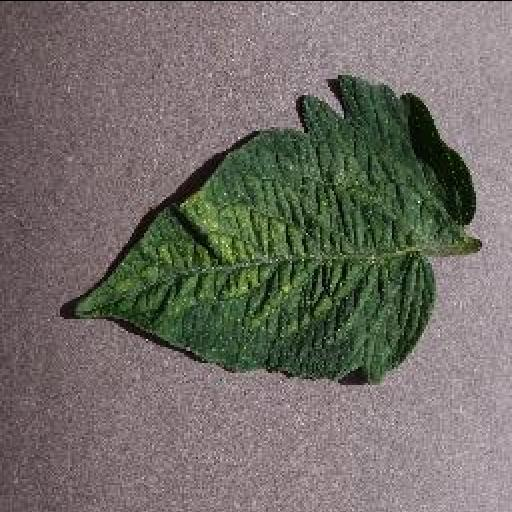disease_tomato: (72, 74, 478, 386)
